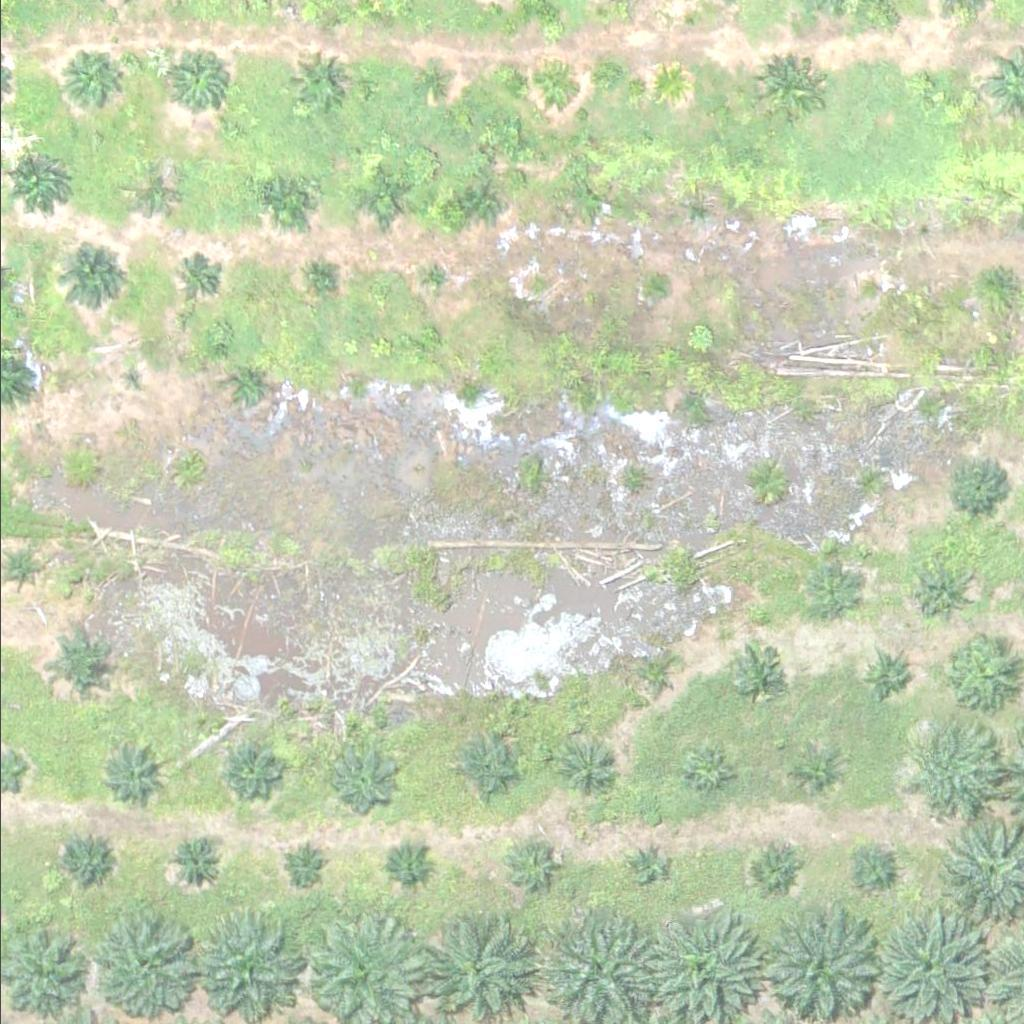Kelapa_Sawit: (183, 910, 297, 1022), (98, 916, 199, 1016), (934, 626, 1022, 713), (907, 726, 995, 813), (44, 237, 120, 312), (328, 744, 403, 819), (907, 561, 970, 624), (948, 456, 1011, 519), (756, 58, 819, 121), (52, 631, 115, 694), (213, 740, 276, 803), (163, 830, 226, 893), (6, 152, 69, 214), (284, 49, 347, 111), (251, 169, 314, 231), (164, 47, 227, 109), (53, 51, 116, 113), (553, 740, 616, 802), (456, 739, 519, 801), (102, 741, 165, 803), (51, 827, 114, 889), (855, 649, 918, 711), (350, 168, 413, 230), (508, 842, 559, 892), (384, 838, 435, 888), (170, 250, 221, 300), (801, 568, 851, 618), (737, 644, 787, 694), (681, 746, 731, 796), (790, 747, 840, 797), (126, 165, 176, 215), (277, 842, 327, 892), (849, 844, 899, 894), (746, 845, 796, 895), (223, 364, 273, 414), (1, 551, 39, 589), (635, 661, 673, 699), (650, 64, 688, 102), (626, 844, 664, 882), (61, 448, 99, 486), (413, 262, 451, 300), (461, 186, 499, 224), (528, 66, 566, 104), (408, 65, 446, 103), (570, 182, 608, 220), (676, 191, 714, 228), (309, 264, 335, 289), (649, 276, 674, 301), (858, 273, 883, 298), (911, 74, 936, 99), (120, 368, 145, 393)
